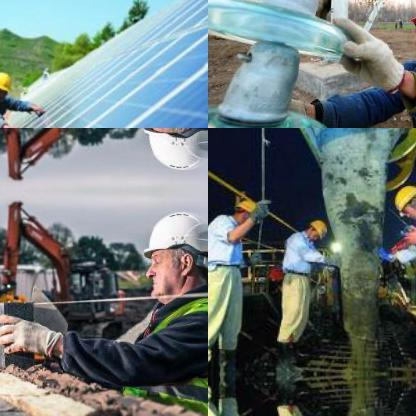Helmet: (134, 201, 207, 298), (133, 128, 207, 179), (389, 178, 415, 220), (232, 197, 262, 227), (304, 219, 326, 243), (0, 69, 13, 98)
